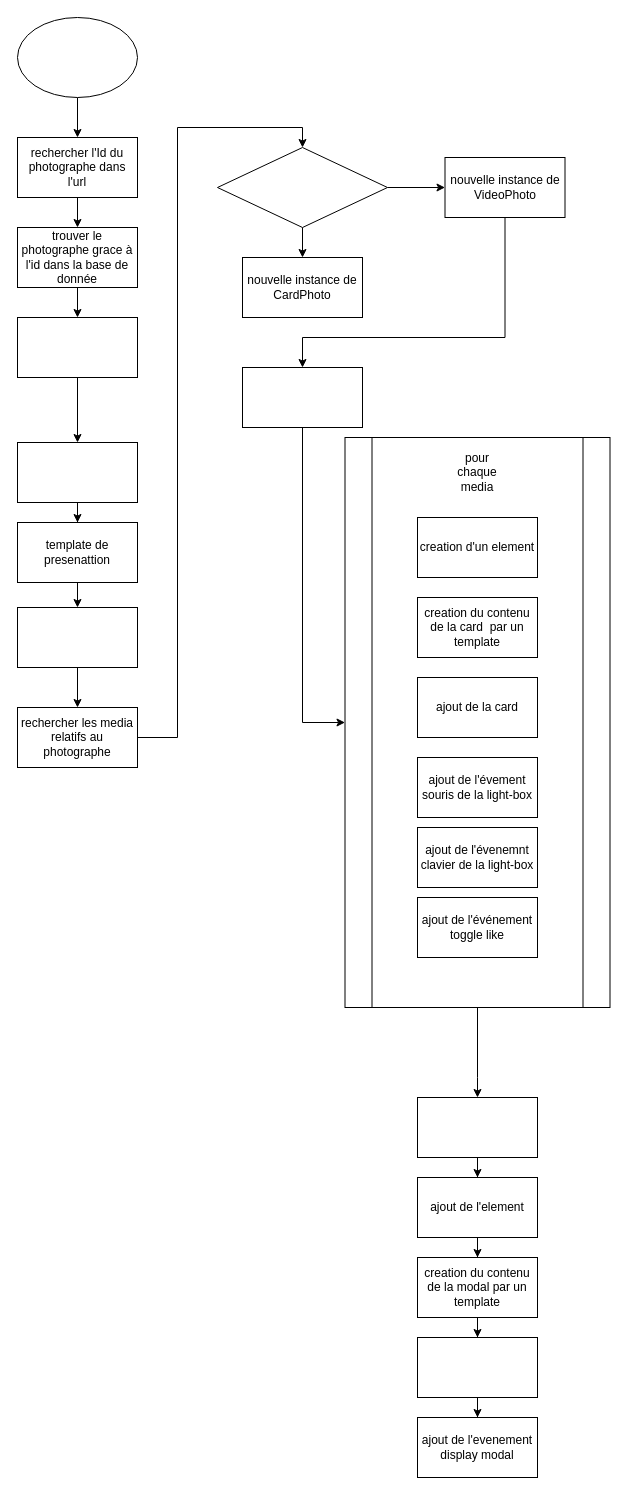
Image size: 628x1495. Some labels were removed from this diagram. The shapes that lost their labels are listed below. From the top down, each one's centre as x and y in pixels, then its label:
At pixel 77 57: "debut".
At pixel 302 187: "photoFactory".
At pixel 77 347: "nouvelle instance de la classe Presentation".
At pixel 302 397: "trier les medias".
At pixel 77 472: "création d'une presentation".
At pixel 77 637: "ajout de presentation".
At pixel 477 1127: "creation d'un element pour la modale".
At pixel 477 1367: "nouvelle instance de Modal".
